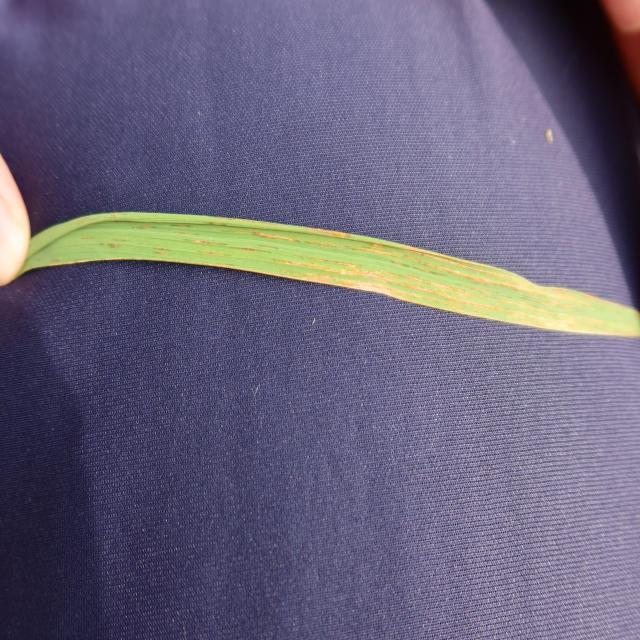Dom soc vi khuan: (272, 257, 514, 316), (297, 272, 494, 316), (402, 272, 566, 317), (399, 253, 552, 297), (223, 229, 301, 243), (343, 244, 397, 259), (185, 237, 229, 245), (230, 245, 269, 253), (306, 240, 337, 248), (99, 242, 122, 250), (196, 250, 225, 256), (131, 224, 155, 230), (153, 246, 170, 251)
